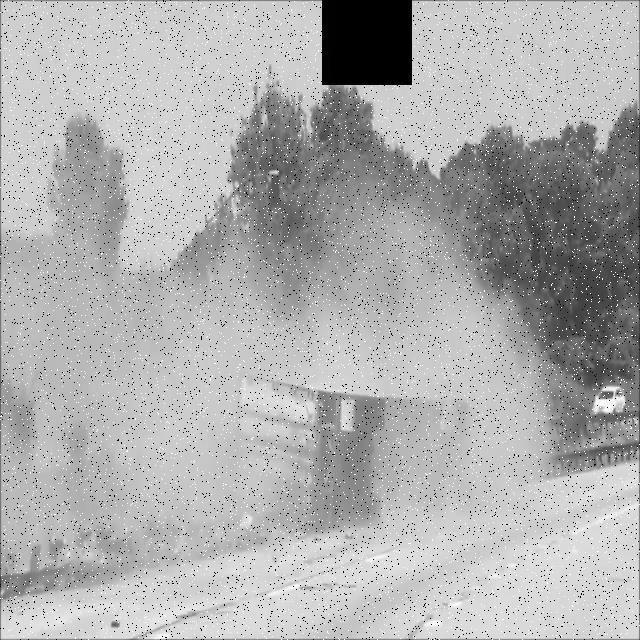person: (193, 332, 477, 562)
